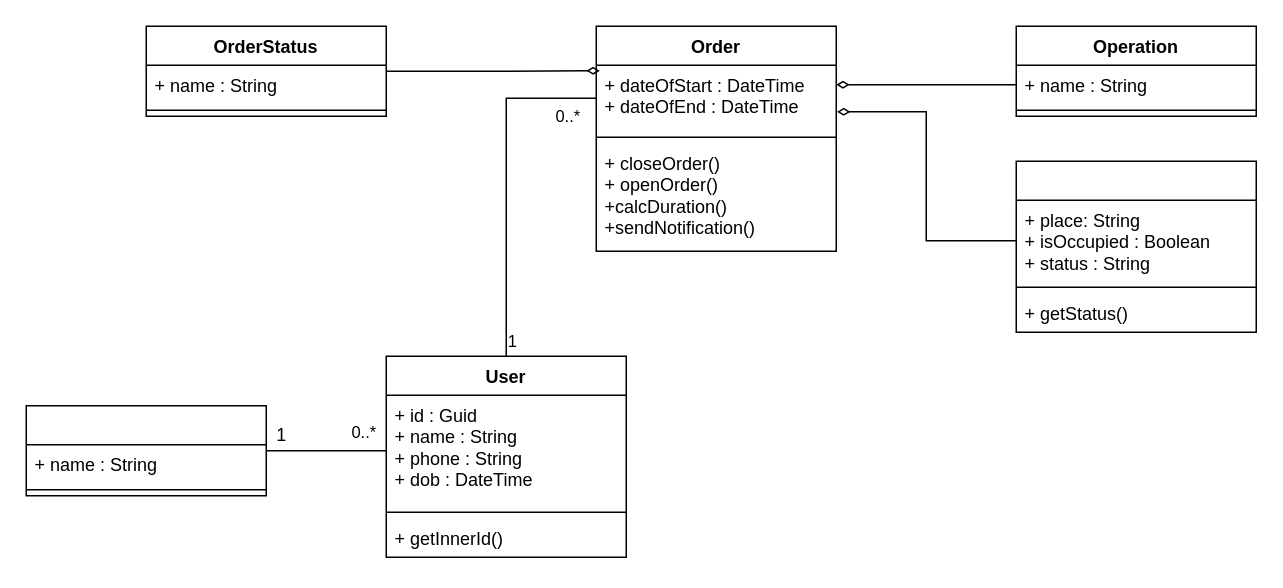
Some shapes in this 1283 by 588 pixel diagram are drawn without their labels. Each missing label, with the box of its shape:
Cell: (1015, 160, 1256, 332)
Role: (25, 404, 266, 496)
